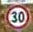limite 30: (4, 3, 30, 30)
